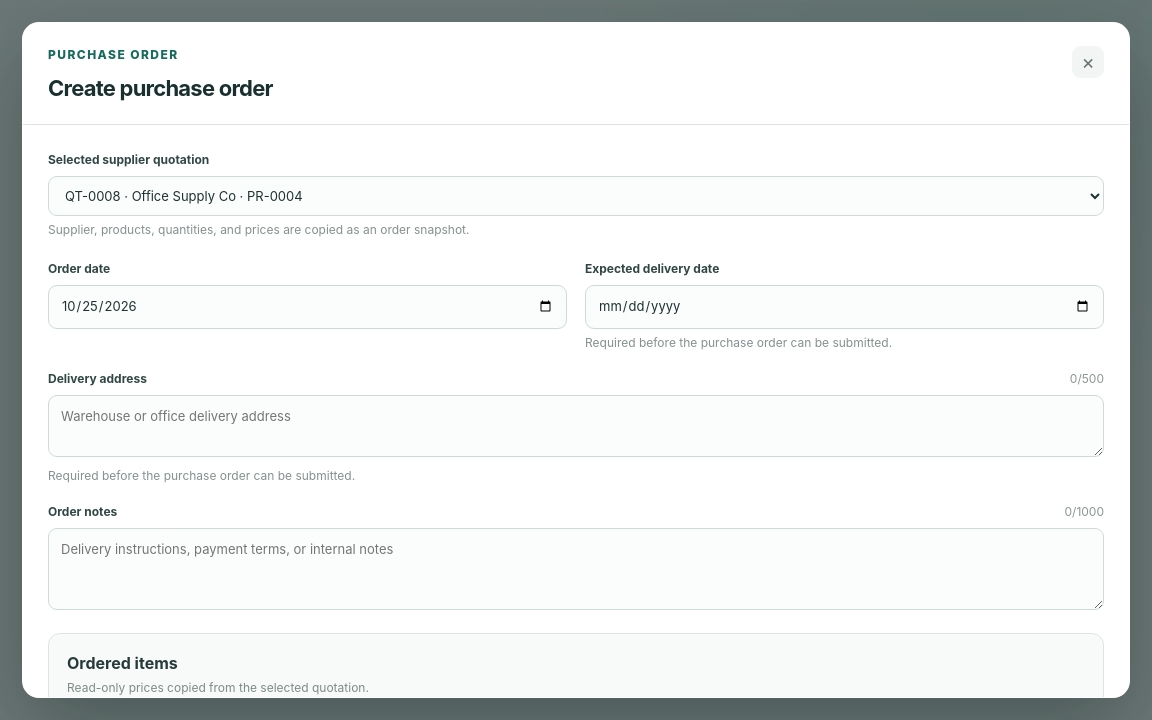
Test: PurchaseOrderForm › prevents an expected delivery date before the order date
In the date field labelled "Order date": (308, 307) [48,285,567,328], type "2026-10-01"
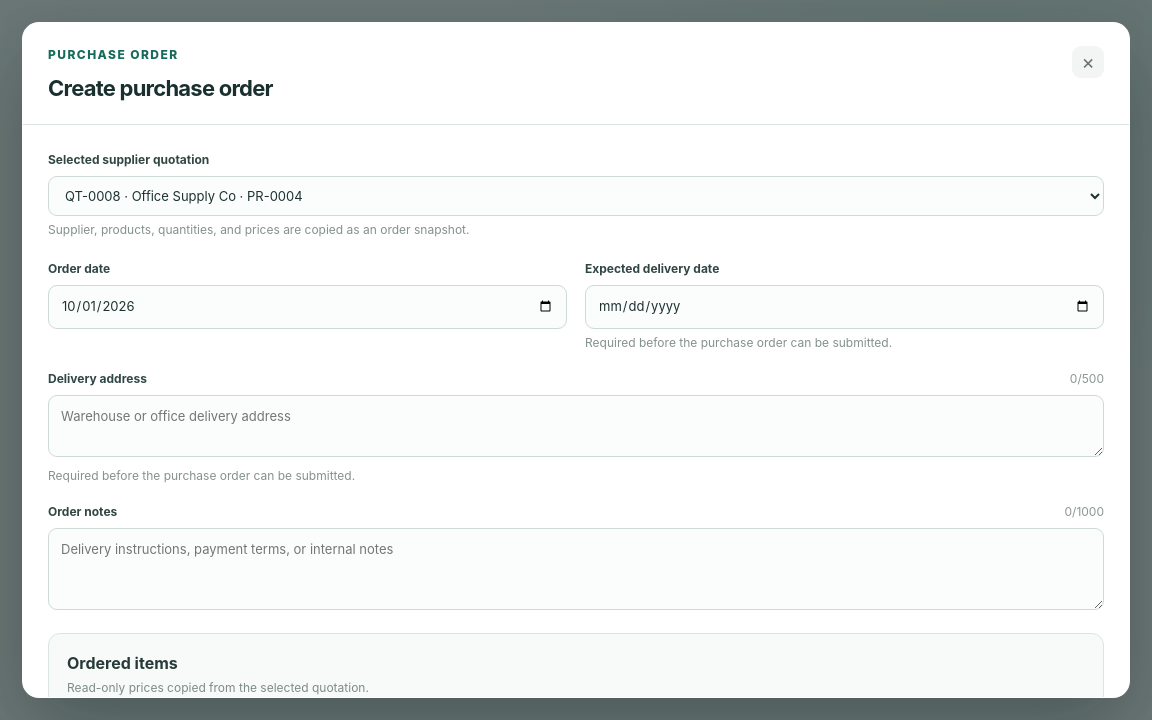
In the date field labelled "Expected delivery date": (844, 307) [585,285,1104,328], type "2026-09-30"
(page scrolled)
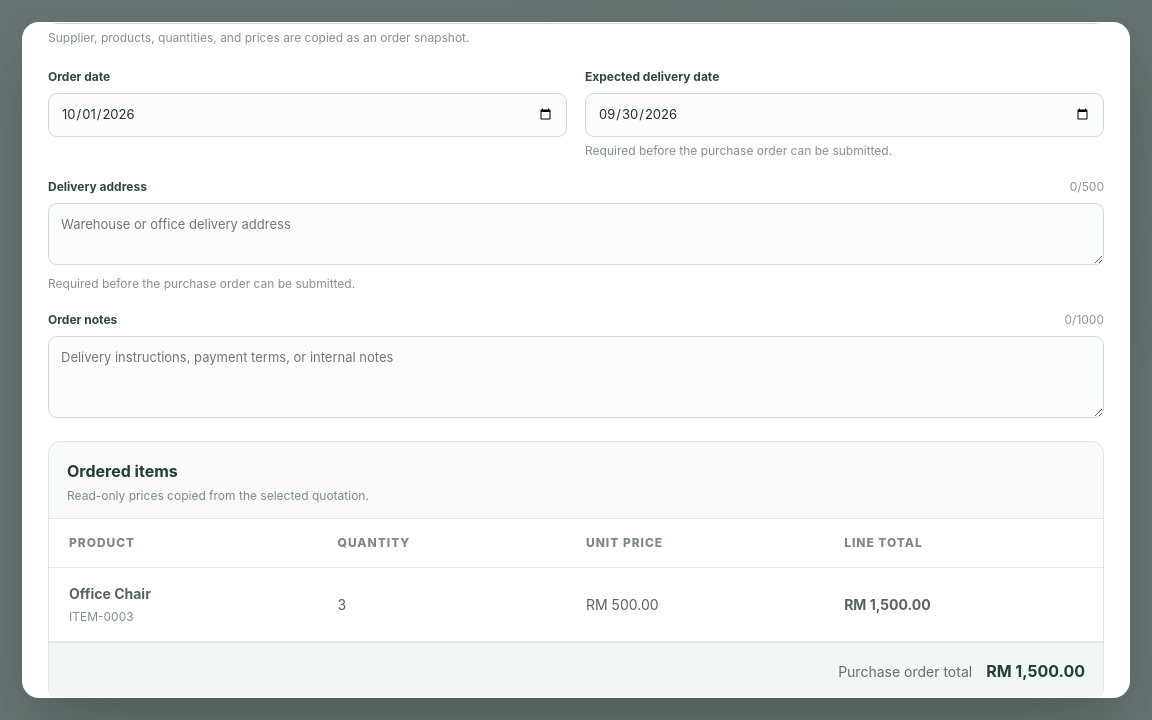
Submit the form
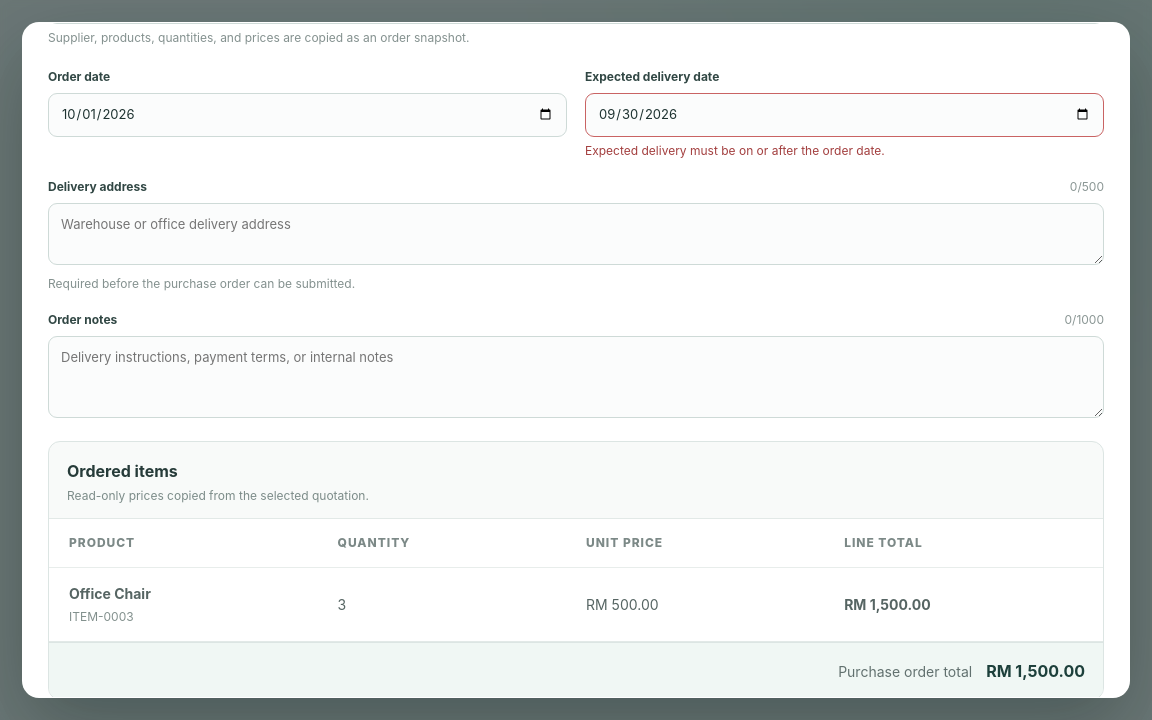
Expected: the text "Expected delivery must be on or after the order date." is shown, [585,142,885,158]
